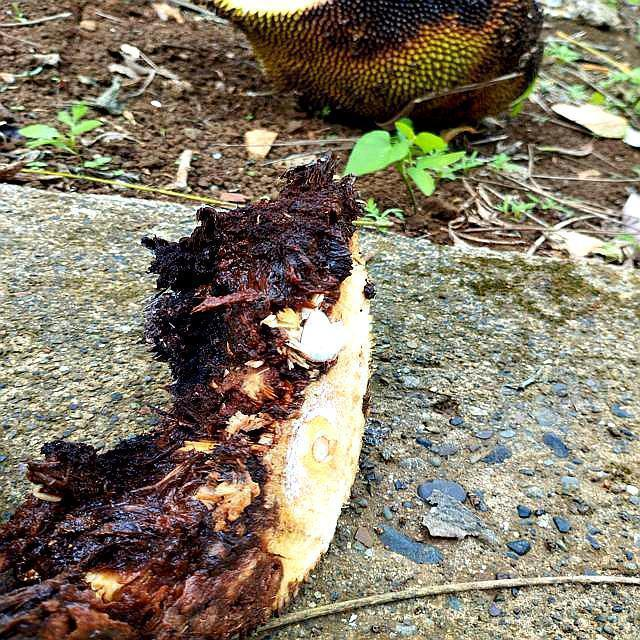Biodegradable: (1, 193, 355, 640), (221, 1, 547, 123)
